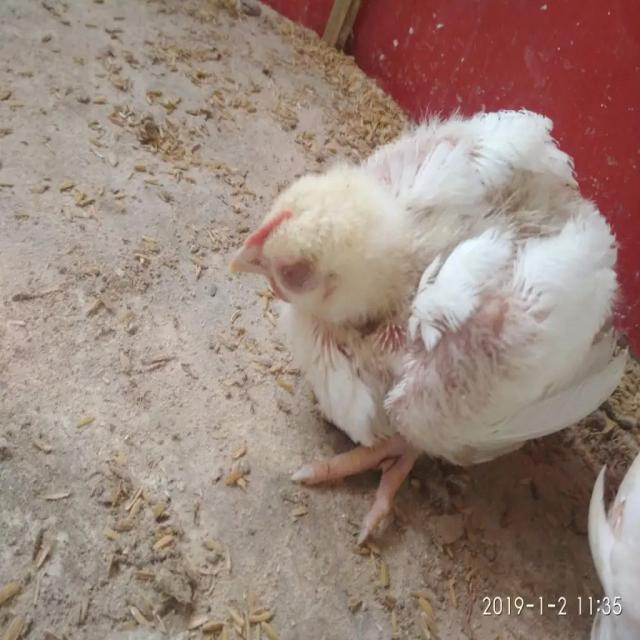poussin: (215, 104, 629, 544)
